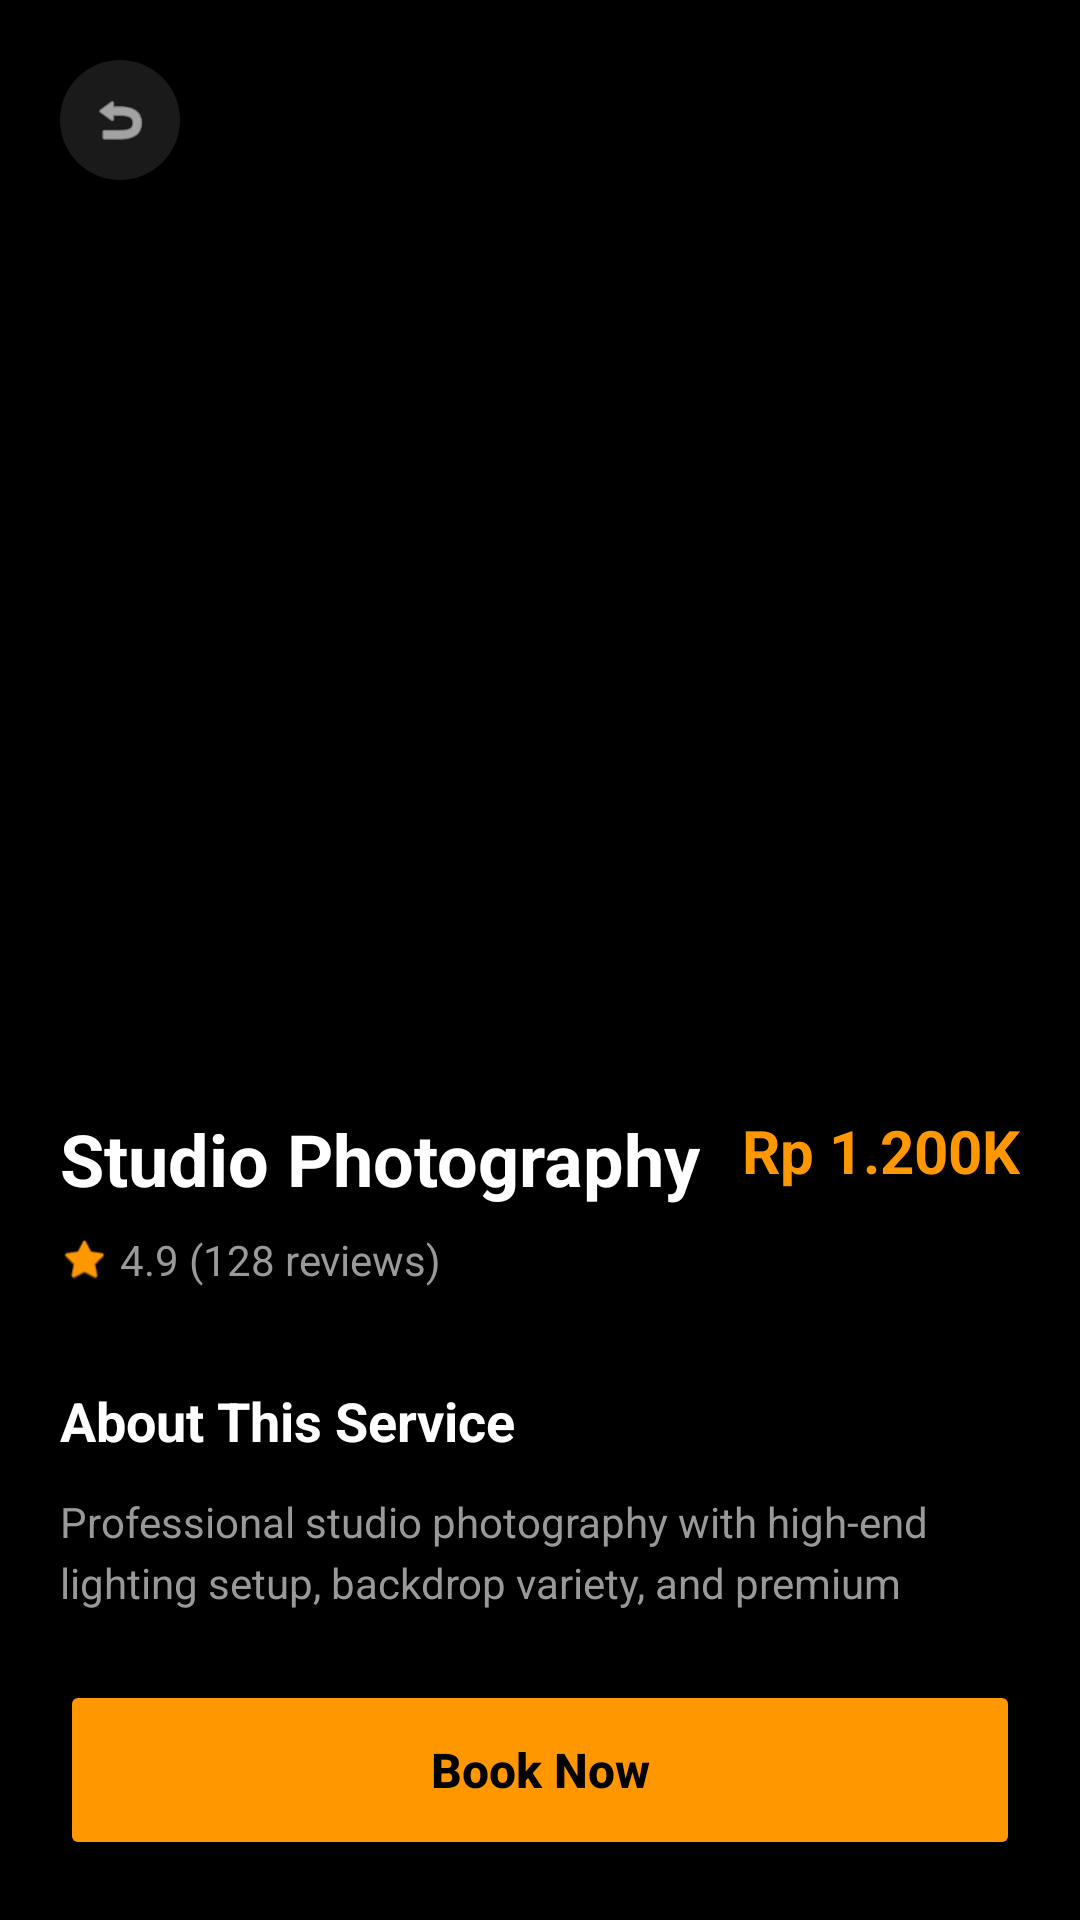

Screen size 1080*1920. Icon name, then its center in pixels as [x,y]:
revert: [120,120]
star on: [84,1259]
